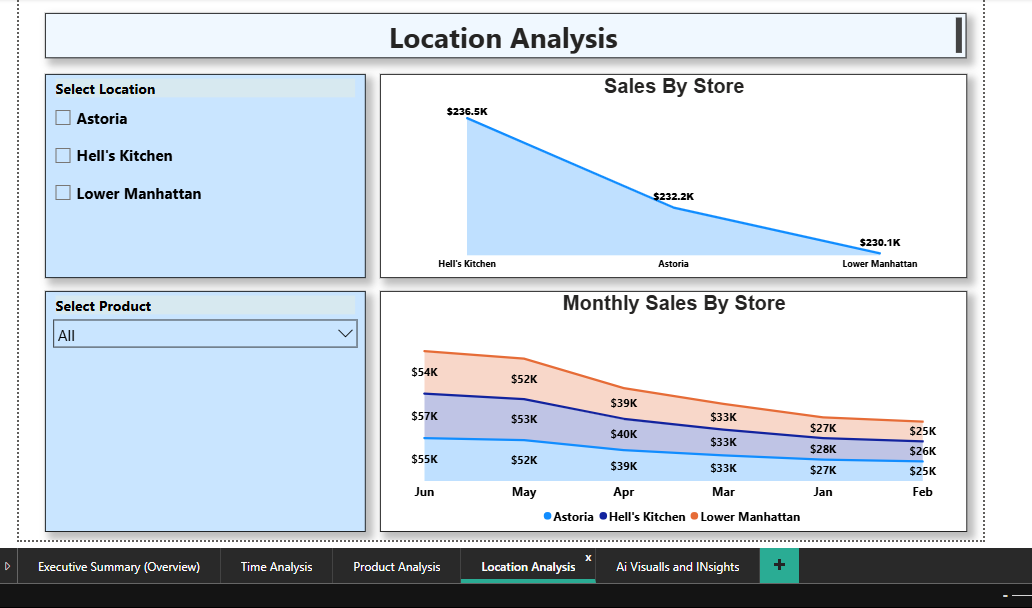

The page's visual inventory and layout, read from the dashboard file:
{"tool":"powerbi","page":{"name":"Location Analysis","canvas":[1280,720],"ordinal":3},"visuals":[{"type":"areaChart","title":"Sales By Store","fields":{"Category":["Dim_Store.store_location"],"Y":["Sum(Fact_Sales.Revenue)"]},"box":[478.5,100.4,779.9,270.8],"z":0,"group":"g1"},{"type":"textbox","box":[34,20.1,1224.4,60.2],"z":0},{"type":"group","id":"g1","title":"Group 1","box":[34,100.4,1224.4,608.3],"z":1000},{"type":"stackedAreaChart","title":"Monthly Sales By Store","fields":{"Category":["Dim_Date.Tran_Month"],"Y":["Sum(Fact_Sales.Revenue)"],"Series":["Dim_Store.store_location"]},"box":[478.5,388.3,779.9,320.5],"z":1000,"group":"g1"},{"type":"slicer","fields":{"Values":["Dim_Products.product_category"]},"box":[34,388.3,426.1,320.5],"z":2000,"group":"g1"},{"type":"slicer","fields":{"Values":["Dim_Store.store_location"]},"box":[34,100.4,426.1,270.8],"z":3000,"group":"g1"}]}

Visuals, with their boxes on the page's 1280x720 design canvas (x1, y1, x2, y2). These are canvas units, not pixel positions in the 1032x608 screenshot, which may show the page scaled, cropped or inside an application window:
"Sales By Store" areaChart: {"x1": 478, "y1": 100, "x2": 1258, "y2": 371}
textbox: {"x1": 34, "y1": 20, "x2": 1258, "y2": 80}
"Group 1" group: {"x1": 34, "y1": 100, "x2": 1258, "y2": 709}
"Monthly Sales By Store" stackedAreaChart: {"x1": 478, "y1": 388, "x2": 1258, "y2": 709}
slicer - Dim_Products.product_category: {"x1": 34, "y1": 388, "x2": 460, "y2": 709}
slicer - Dim_Store.store_location: {"x1": 34, "y1": 100, "x2": 460, "y2": 371}
